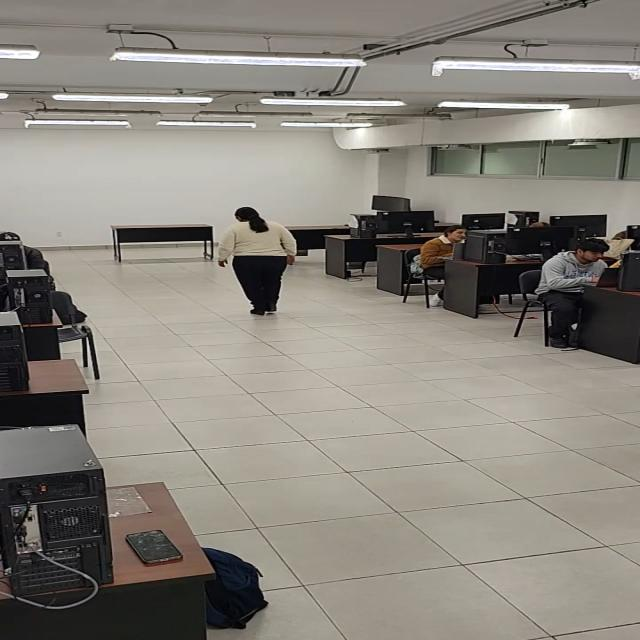Persona: (217, 207, 298, 316)
